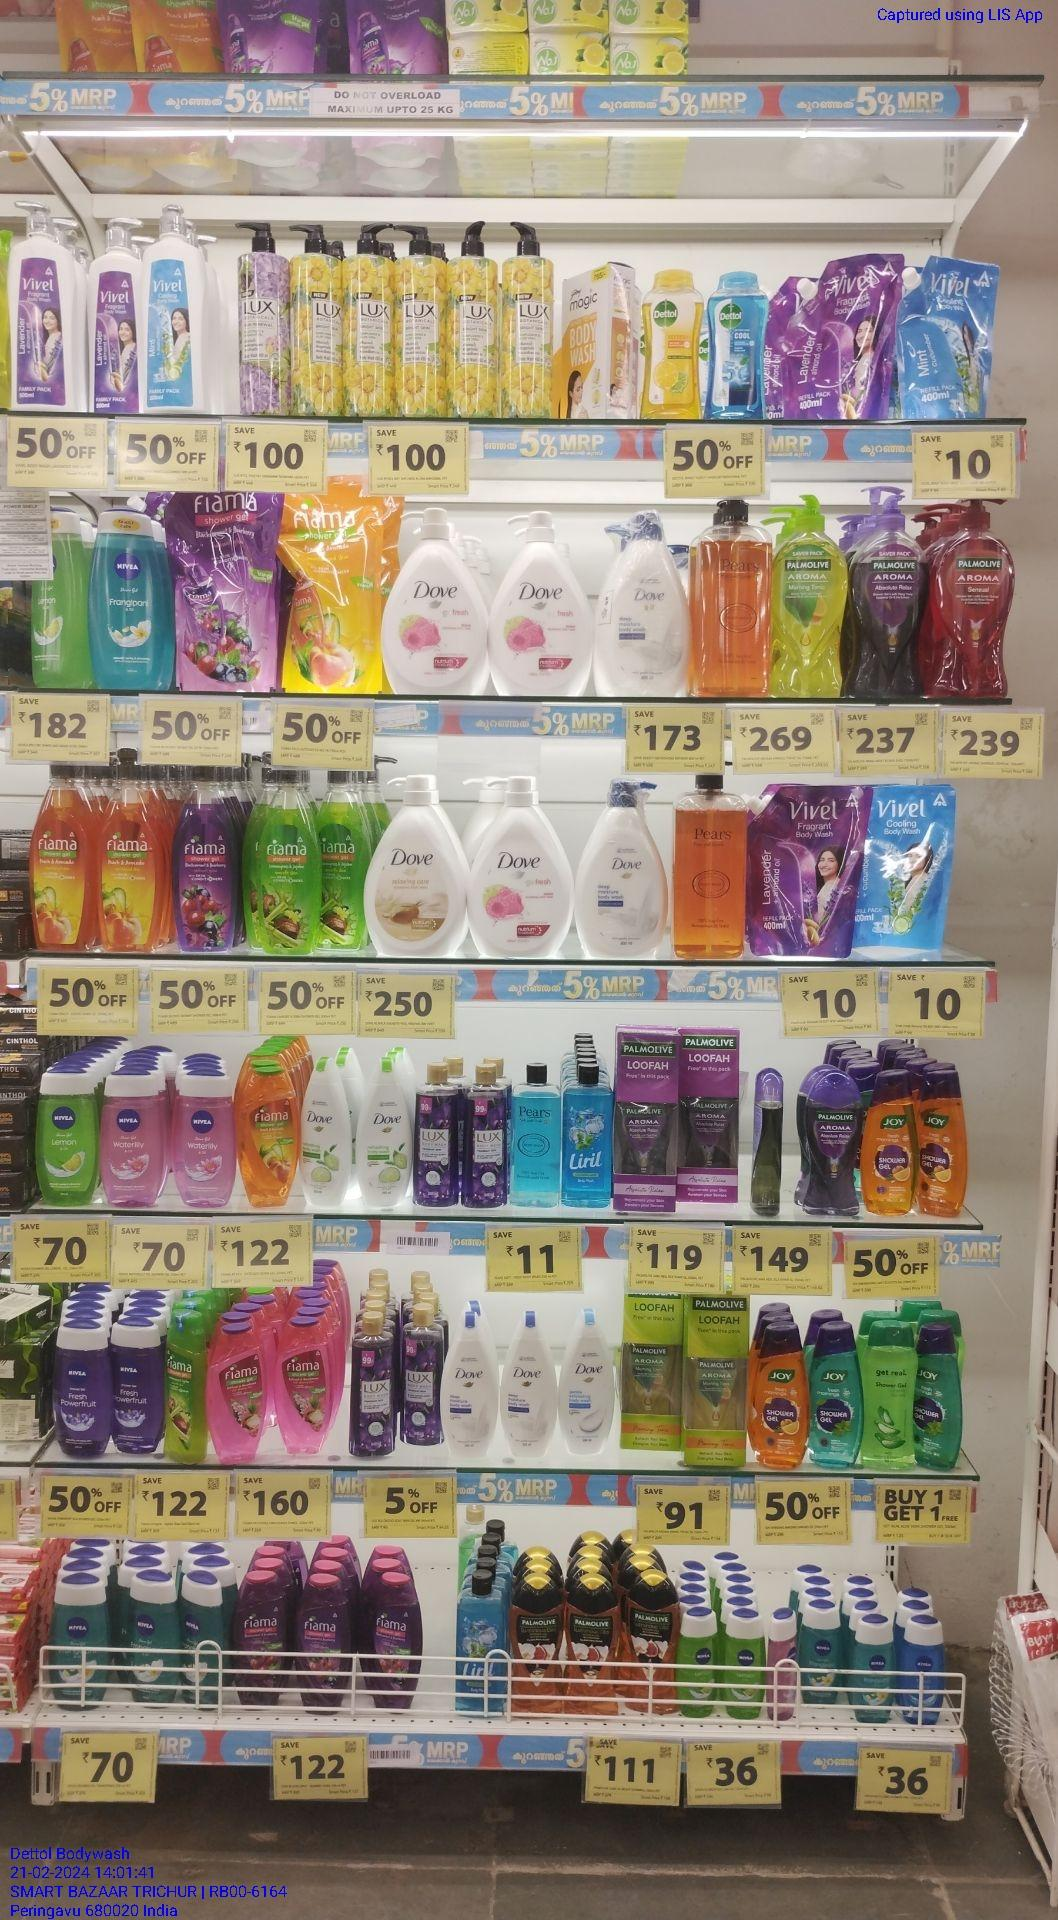Dettol_Bodywash_Cool: (704, 270, 770, 419)
Dettol_Bodywash_Refresh: (637, 267, 702, 419)
Dove_Deep_Moisture_Body_Wash_250ML: (499, 1309, 558, 1460), (440, 1310, 499, 1459)
Dove_Gentle_Exfoliating_Body_Wash_250ML: (558, 1305, 616, 1458)
Dove_Refreshing_Body_Wash_250ML: (356, 1055, 416, 1209), (300, 1055, 352, 1209)
Fiama_Shower_Gel_Patchouli_and_Macadamia_250ML: (207, 1321, 268, 1464), (271, 1316, 332, 1458)
Fiama_Shower_Gel_Peach_and_Avocado_250ML: (237, 1066, 298, 1211)
Joy_Shower_Gel_Mandarin_and_Lemongrass_250ML: (752, 1321, 809, 1471), (861, 1068, 916, 1218), (917, 1068, 969, 1219)
Joy_Shower_Gel_Mint_and_Eucalyptus_250ML: (808, 1320, 865, 1467), (916, 1321, 964, 1473)
Liril_Cooling_Mint_Body_Wash_250ML: (456, 1568, 507, 1717), (562, 1063, 612, 1210)
Lux_Black_Orchid_Scent_and_Juniper_Oil_Body_Wash_245ML: (348, 1310, 397, 1458), (461, 1062, 508, 1210), (414, 1062, 461, 1209), (400, 1301, 442, 1447)
Nivea_Shower_Gel_Frangipani_and_Oil_250ML: (86, 507, 167, 689), (46, 1571, 112, 1714), (124, 1570, 180, 1704)
Nivea_Shower_Gel_Fresh_Powerfruit_250ML: (52, 1318, 111, 1459), (111, 1317, 163, 1458)
Nivea_Shower_Gel_Lemon_and_Oil_250ML: (33, 1067, 98, 1204)
Nivea_Shower_Gel_Waterlily_and_Oil_250ML: (98, 1069, 164, 1207), (171, 1068, 236, 1207)
Palmolive_Aroma_Relax_250ML: (804, 1068, 861, 1218)
Palmolive_Luminous_Oils_With_White_Orchid_Shower_Gel_250ML: (563, 1575, 623, 1719), (622, 1571, 680, 1714), (507, 1574, 563, 1717)
Pears_Pure_Glycerin_and_Mint_Extracts_Body_Wash_250ML: (509, 1062, 560, 1209)
